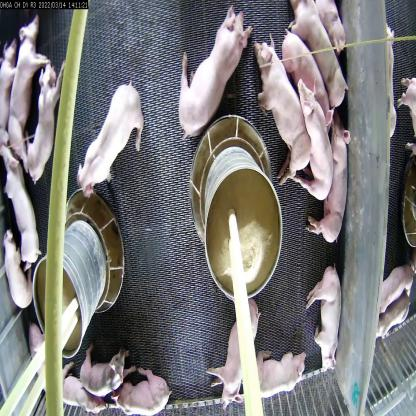Pig: (179, 7, 251, 141), (250, 34, 310, 186), (76, 88, 152, 179), (294, 0, 346, 131), (8, 24, 53, 157), (4, 157, 46, 290), (291, 79, 331, 216), (303, 255, 344, 377), (23, 72, 66, 179), (283, 24, 330, 118), (213, 297, 256, 397), (319, 121, 348, 248), (250, 348, 302, 410), (0, 229, 33, 321), (114, 376, 183, 415), (70, 353, 120, 398)
